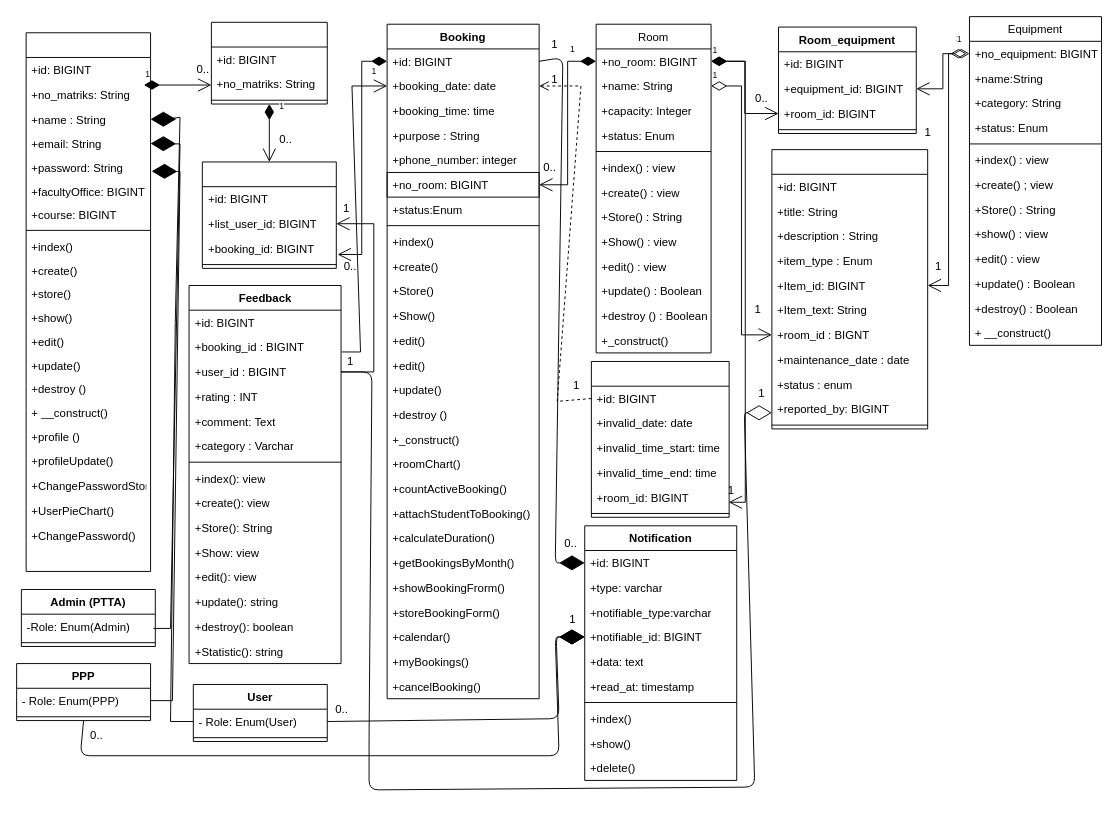
This 1118x831 diagram has some shape labels left out. The shapes that lost their labels are listed below. From the top down, each one's box as (x1, y1, x2, y2) in pixels, then its label:
(210, 21, 327, 104): List_User
(201, 161, 336, 268): Booking_user
(25, 32, 151, 571): Users
(771, 149, 928, 429): Meantenance
(590, 361, 729, 517): Schedule_Booking
